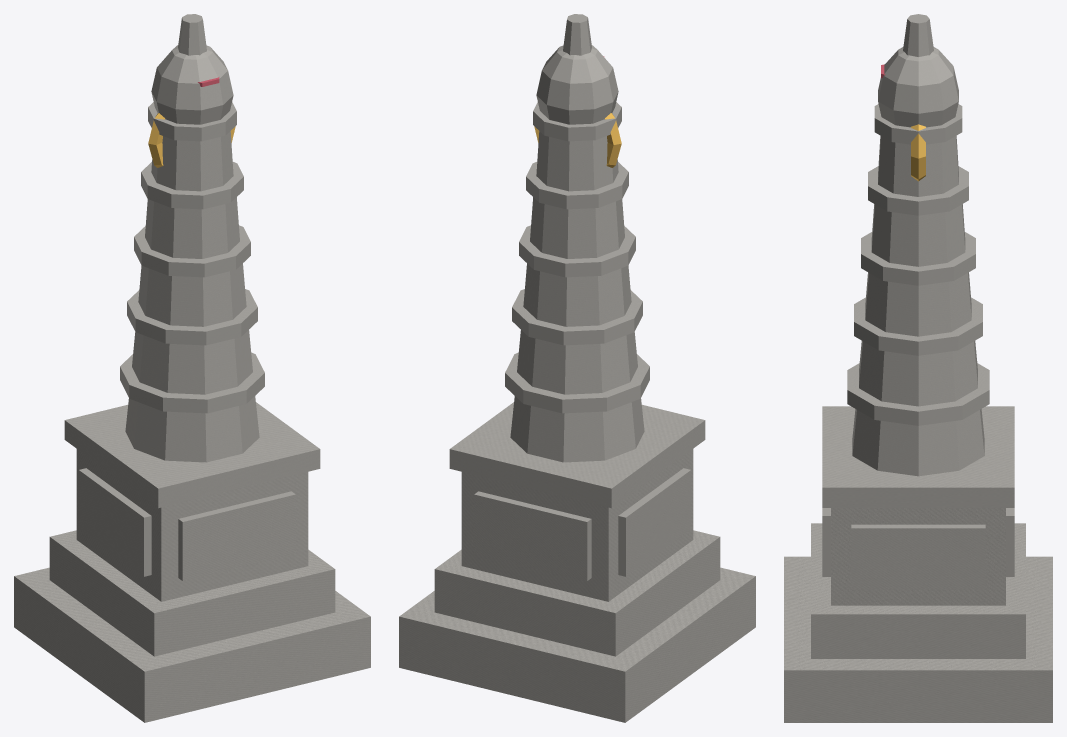
The model's file is indian-bazaar-street-and-temple-carved-figure-on-plint-69712708__36546.glb.
3 views of the same model, side by side, from view 1: azimuth 30°, elevation 25°; view 2: azimuth 150°, elevation 25°; view 3: azimuth 270°, elevation 25° (orthographic). The views are drawn at different scales.
Visible parts, largest first — view 1: carved-figure-on-plinth-stone, carved-figure-on-plinth-saffron; view 2: carved-figure-on-plinth-stone, carved-figure-on-plinth-saffron; view 3: carved-figure-on-plinth-stone, carved-figure-on-plinth-saffron.
Boxes of the visible parts, <box> form: carved-figure-on-plinth-stone: <box>14,14,370,722</box>; carved-figure-on-plinth-saffron: <box>148,113,235,167</box>; carved-figure-on-plinth-stone: <box>399,14,755,722</box>; carved-figure-on-plinth-saffron: <box>534,113,621,167</box>; carved-figure-on-plinth-stone: <box>784,14,1052,722</box>; carved-figure-on-plinth-saffron: <box>911,124,925,181</box>.
Bounding box in the file's own units: 1.2 × 3.19 × 1.2.
Materials: 3 (1 with a texture image).
